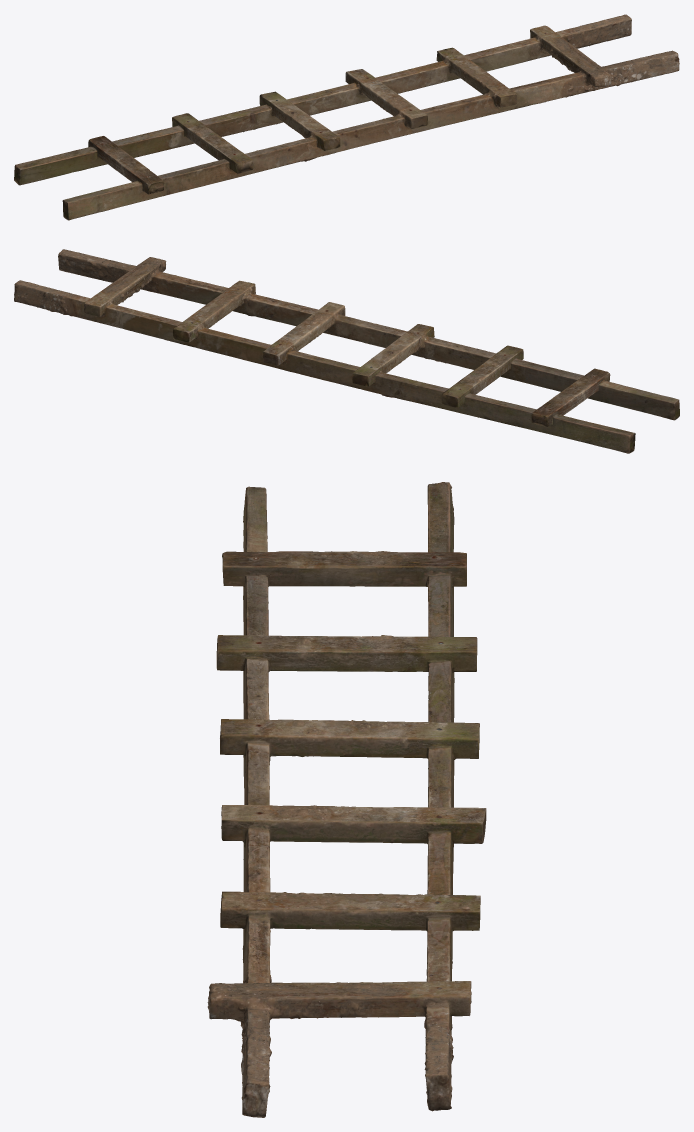
File: military_trenches_equipment_ladder_wood_s_ydxqael_high.glb
3 renders of one model, top to bottom at view 1: azimuth 30°, elevation 25°; view 2: azimuth 150°, elevation 25°; view 3: azimuth 270°, elevation 25°, orthographic. The views are drawn at different scales.
Visible parts, largest first — view 1: ydxqael_LOD0_TIER1_000; view 2: ydxqael_LOD0_TIER1_000; view 3: ydxqael_LOD0_TIER1_000.
Part boxes in pixels (bbox=[...]): ydxqael_LOD0_TIER1_000: bbox=[14, 14, 679, 220]; ydxqael_LOD0_TIER1_000: bbox=[14, 249, 679, 453]; ydxqael_LOD0_TIER1_000: bbox=[207, 482, 486, 1117].
Size of the model in its own units: 2.42 by 0.0954 by 0.4757.
Materials: 1 (1 with a texture image).
